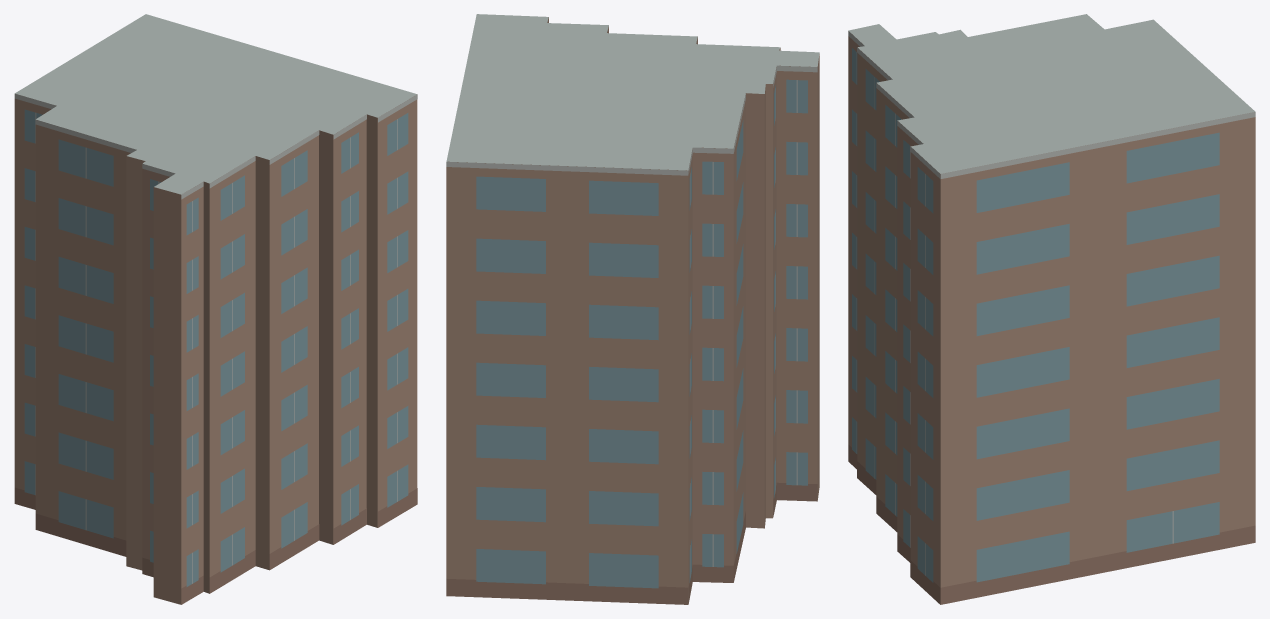
File: survey-upis-32965287.glb
3 views of the same model, side by side, from view 1: azimuth 30°, elevation 25°; view 2: azimuth 150°, elevation 25°; view 3: azimuth 270°, elevation 25° (orthographic). The views are drawn at different scales.
Parts seen in each view (by area): view 1: survey-upis-32965287.tmp; view 2: survey-upis-32965287.tmp; view 3: survey-upis-32965287.tmp.
Part boxes in pixels (x1,y1,x2,y2): survey-upis-32965287.tmp: [14, 14, 417, 604]; survey-upis-32965287.tmp: [446, 14, 819, 604]; survey-upis-32965287.tmp: [848, 14, 1255, 604].
Bounding box in the file's own units: 16.02 × 20.1 × 17.23.
